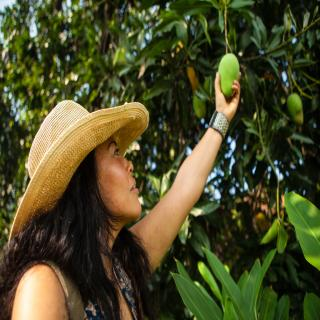Mango: (219, 51, 241, 101), (288, 94, 302, 124), (193, 96, 205, 120)
